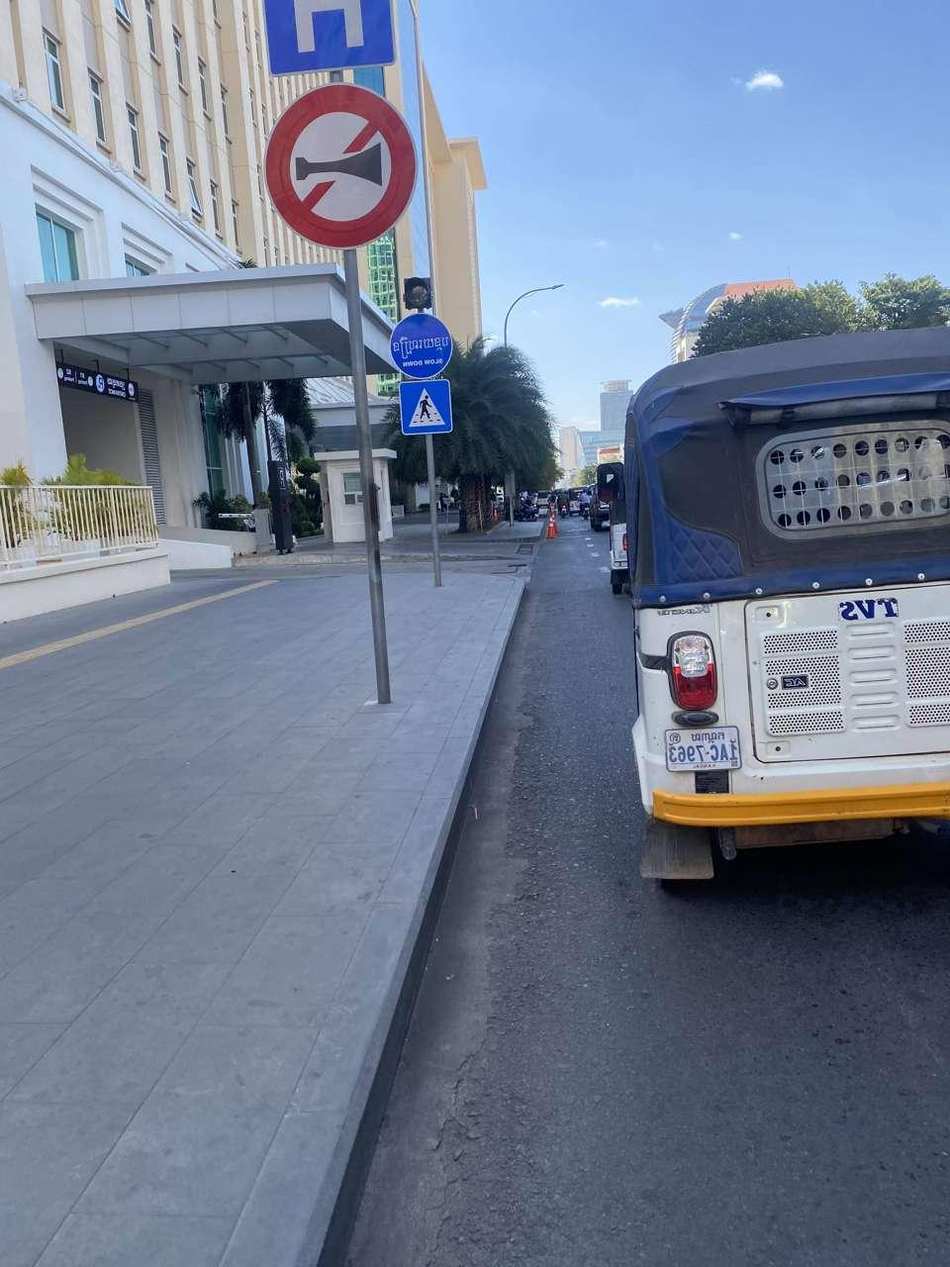hospital: (264, 0, 399, 72)
no_honking: (264, 84, 419, 252)
pedestrian_crossing: (398, 379, 453, 436)
slow_down: (387, 312, 454, 378)
